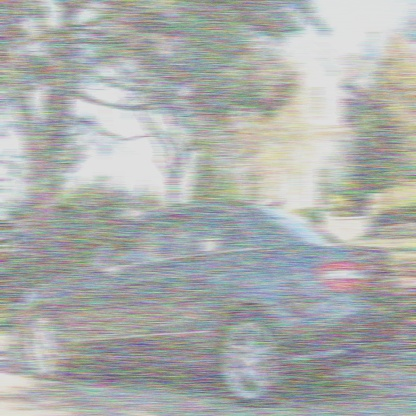Vehicle: (15, 197, 414, 415)
